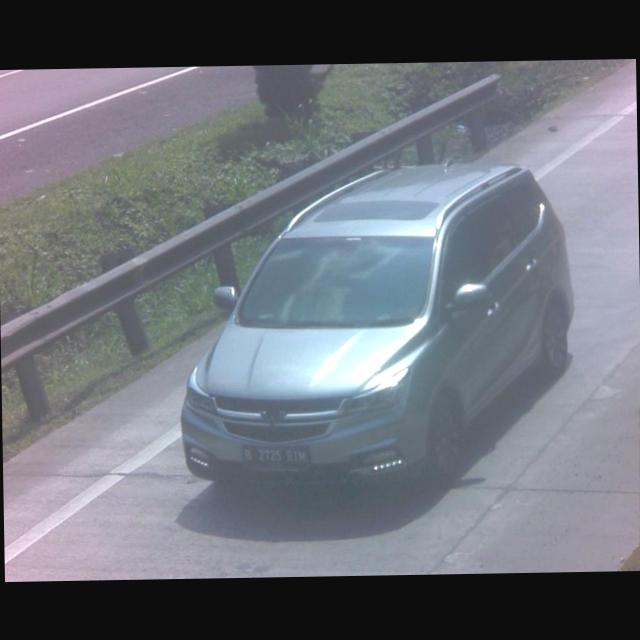plate: (240, 443, 307, 471)
